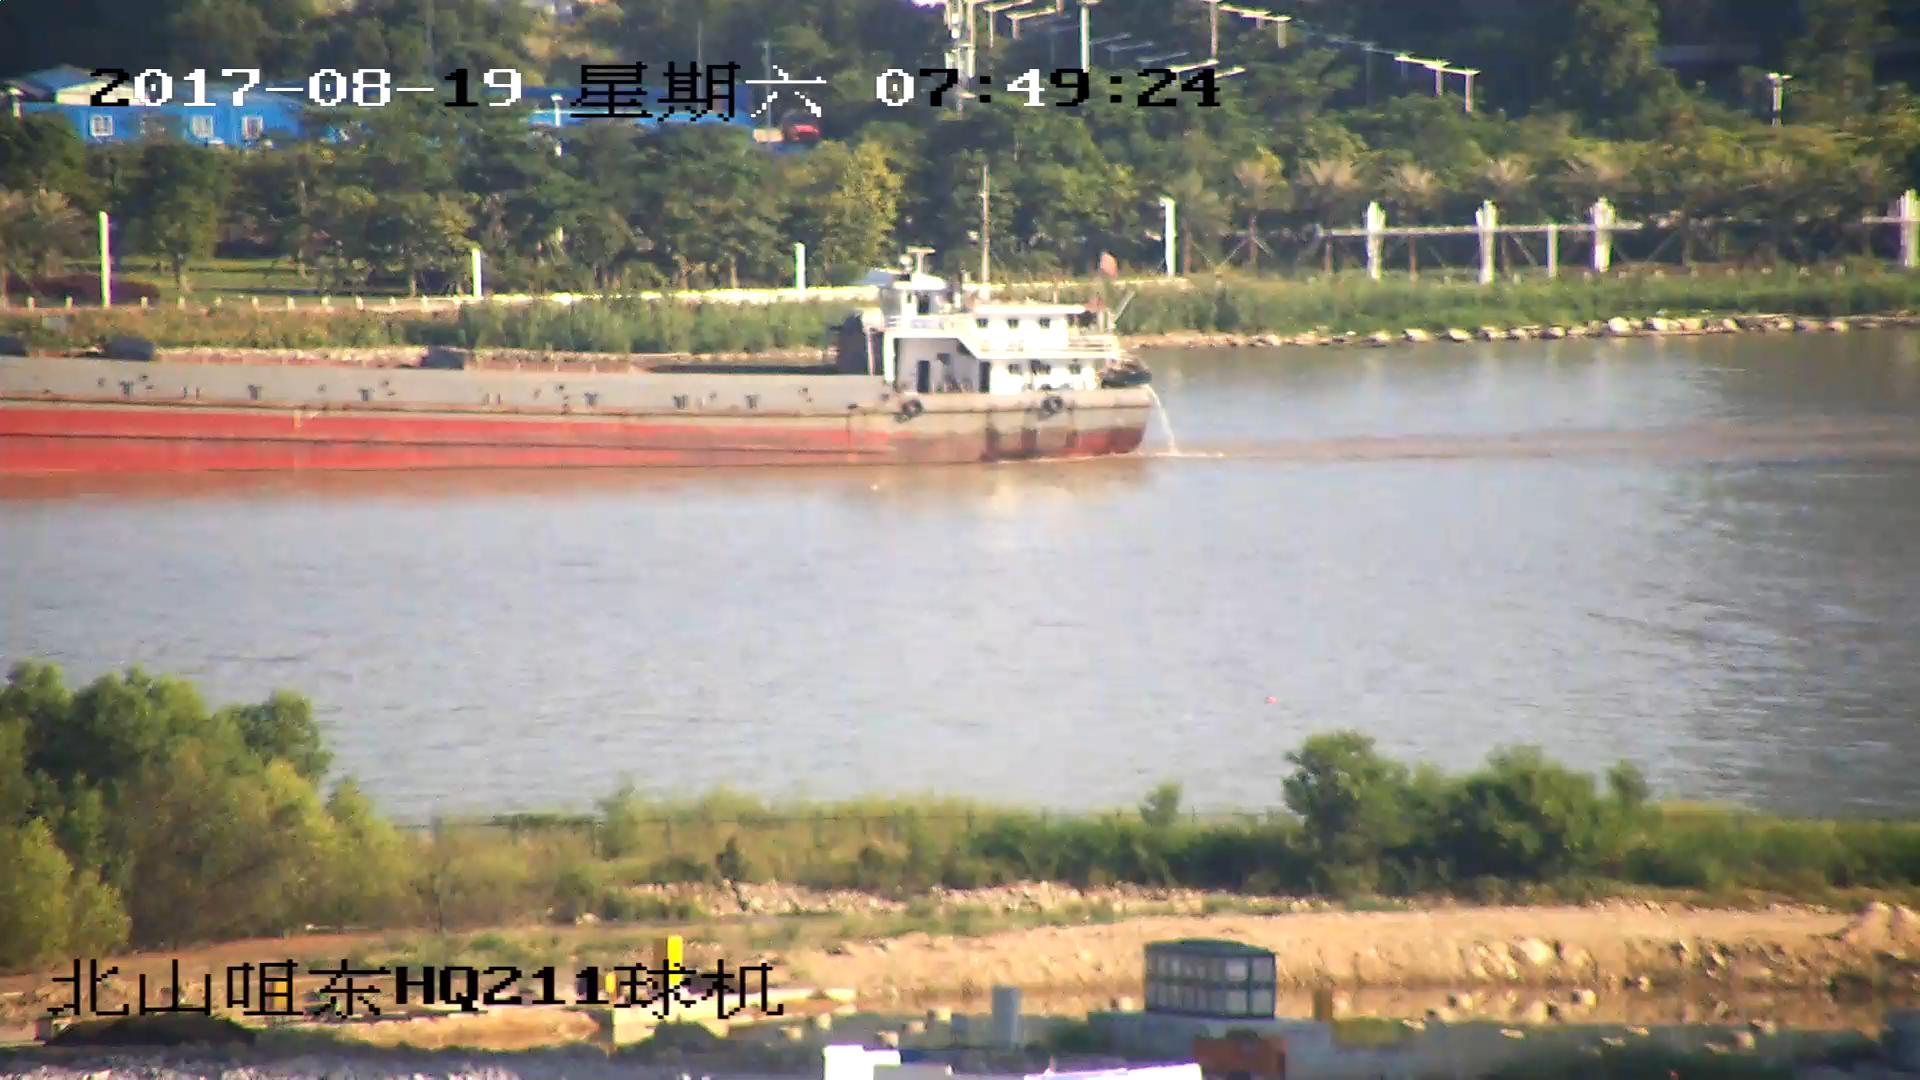Ship: (3, 174, 1154, 467)
